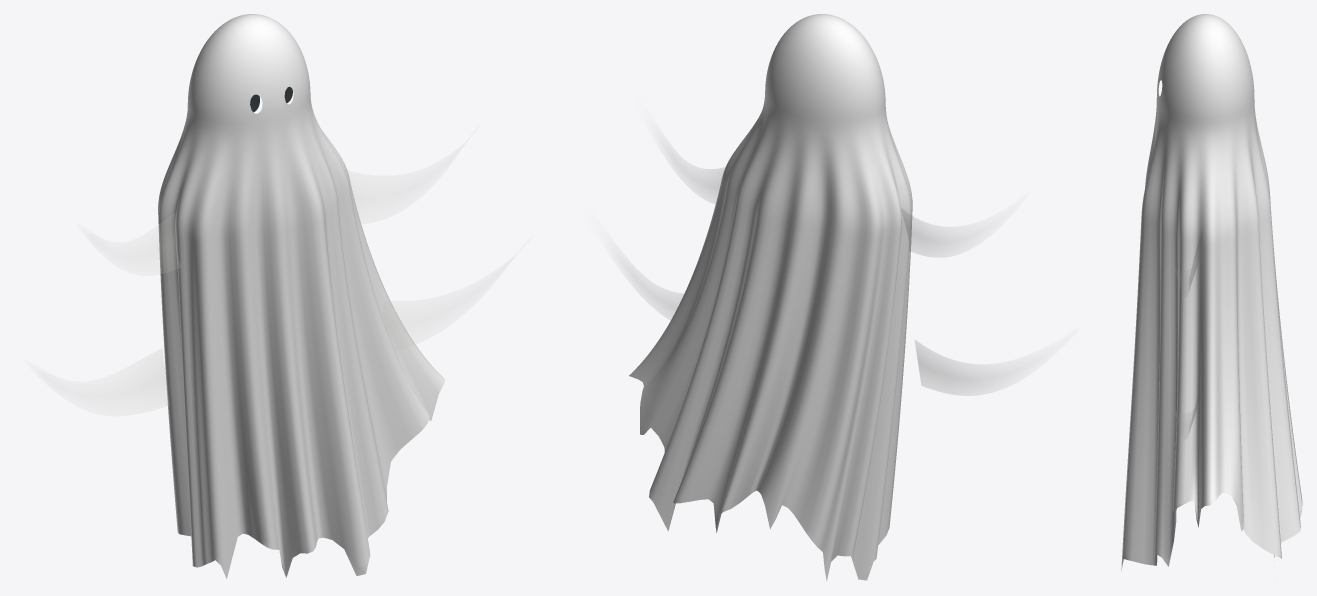
The model's file is pebble.glb.
3 views of the same model, side by side, from view 1: azimuth 30°, elevation 25°; view 2: azimuth 150°, elevation 25°; view 3: azimuth 270°, elevation 25° (orthographic). The views are drawn at different scales.
Visible parts, largest first — view 1: Cinematic_Pebble_Shroud; view 2: Cinematic_Pebble_Shroud; view 3: Cinematic_Pebble_Shroud.
Part boxes in pixels (x1=…): Cinematic_Pebble_Shroud: x1=70, y1=14, x2=475, y2=579; Cinematic_Pebble_Shroud: x1=628, y1=14, x2=1025, y2=581; Cinematic_Pebble_Shroud: x1=1121, y1=14, x2=1302, y2=570.
Size of the model in its own units: 2.04 by 2.08 by 0.6391.
3 materials, 1 textured.
